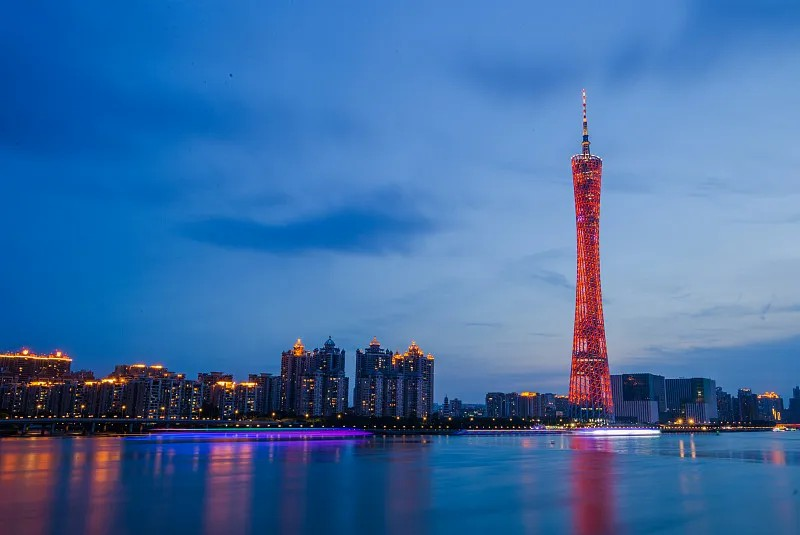Canton: (571, 88, 618, 420)
